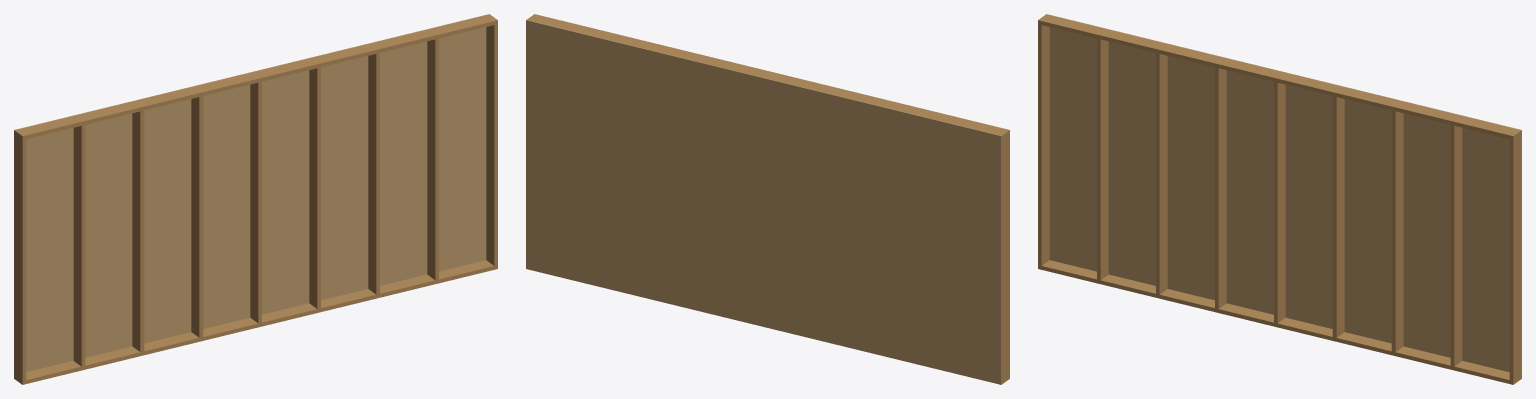
File: structure.assembly.timber_panel_4800.glb
The picture shows the model from 3 angles, left to right: view 1: azimuth 30°, elevation 25°; view 2: azimuth 150°, elevation 25°; view 3: azimuth 330°, elevation 25°; orthographic projection.
Parts seen in each view (by area): view 1: main__plywood, main__softwood; view 2: main__plywood, main__softwood; view 3: main__plywood, main__softwood.
Part boxes in pixels (x1,y1,x2,y2): main__plywood: (14,14,489,378); main__softwood: (14,14,497,384); main__plywood: (526,20,1001,384); main__softwood: (527,14,1009,384); main__plywood: (1046,14,1521,378); main__softwood: (1038,14,1521,384).
Bounding box in the file's own units: 4.8 × 2.4 × 0.149.
